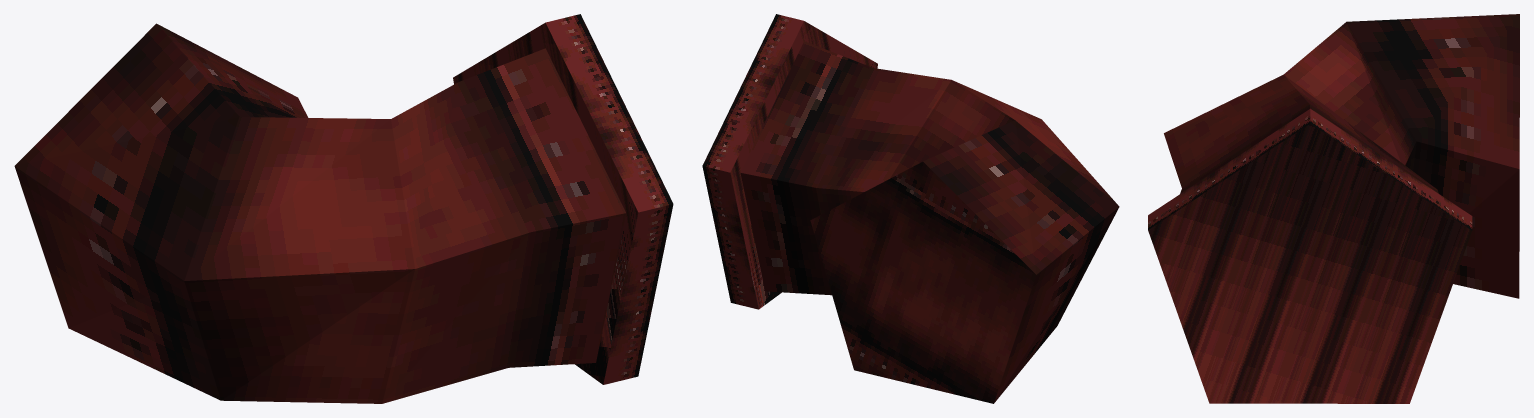
Rendered from Rohr_StückKurve [Rot]_2361.glb.
3 views of the same model, side by side, from view 1: azimuth 30°, elevation 25°; view 2: azimuth 150°, elevation 25°; view 3: azimuth 270°, elevation 25° (orthographic). The views are drawn at different scales.
Parts seen in each view (by area): view 1: pCylinderShape79, pCylinderShape78; view 2: pCylinderShape79, pCylinderShape78; view 3: pCylinderShape78, pCylinderShape79.
Part boxes in pixels (x1=…): pCylinderShape79: x1=14, y1=23, x2=626, y2=403; pCylinderShape78: x1=453, y1=14, x2=673, y2=384; pCylinderShape79: x1=740, y1=41, x2=1119, y2=403; pCylinderShape78: x1=702, y1=14, x2=877, y2=309; pCylinderShape78: x1=1148, y1=108, x2=1472, y2=403; pCylinderShape79: x1=1164, y1=14, x2=1519, y2=298.
Bounding box in the file's own units: 1.11 × 0.7657 × 0.9207.
Materials: 2 (2 with a texture image).
